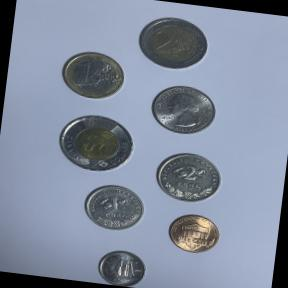coin: (48, 108, 140, 180), (132, 10, 215, 77), (148, 145, 228, 210), (144, 79, 223, 141), (56, 45, 132, 107), (160, 206, 226, 260), (92, 245, 150, 288)
